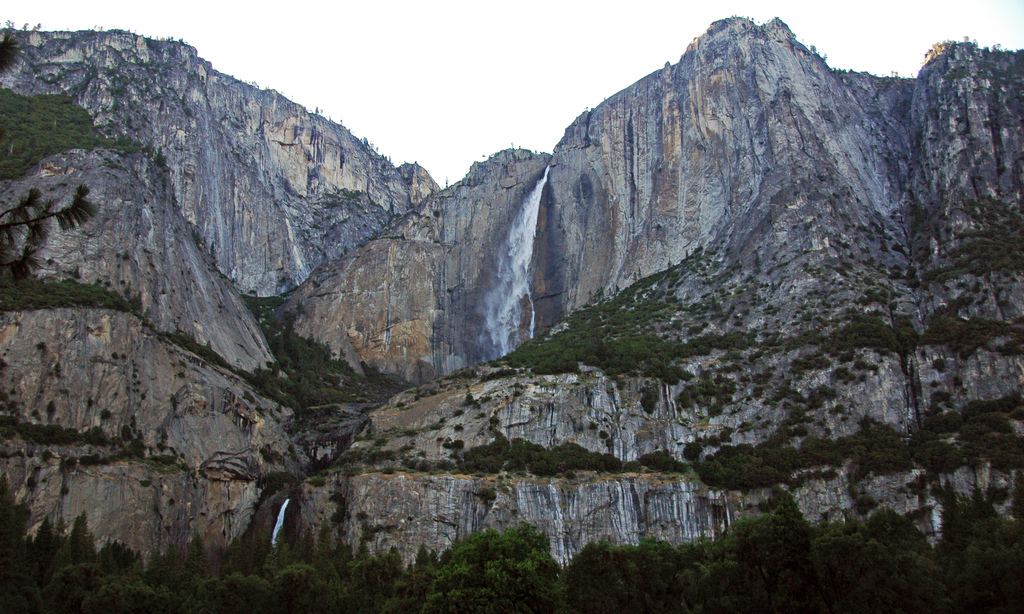Tree: (0, 21, 101, 264)
